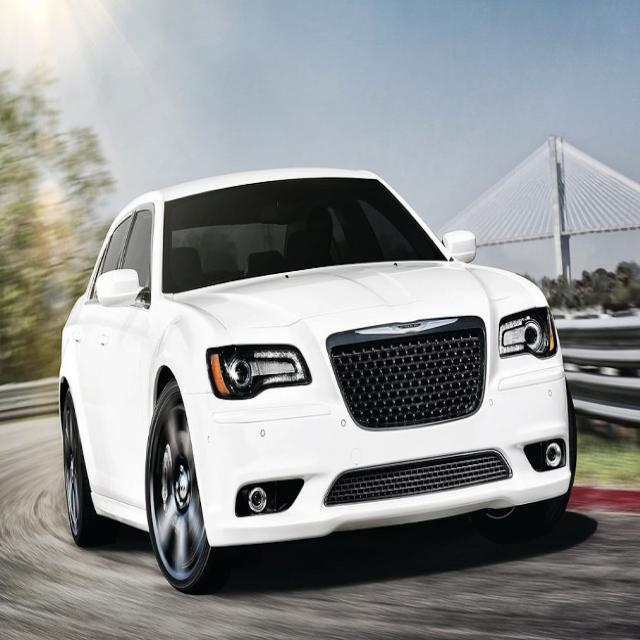front_bumper: (181, 359, 568, 550)
front_glass: (162, 174, 446, 300)
front_left_side_light: (497, 304, 556, 364)
front_left_side_mirror: (443, 228, 479, 267)
front_right_side_door: (97, 198, 152, 520)
front_right_side_light: (204, 341, 314, 402)
front_right_side_mirror: (96, 268, 144, 312)
wheel: (145, 380, 215, 593), (62, 398, 99, 542)
